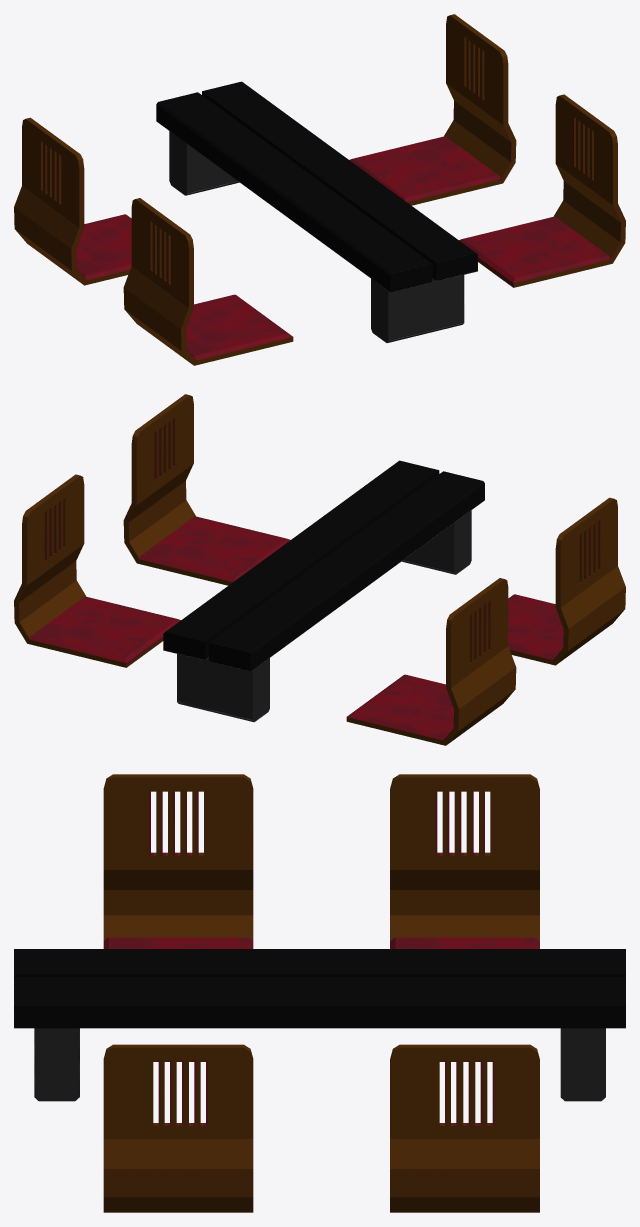
Rendered from NNJ0810002.fbx.
The picture shows the model from 3 angles, top to bottom: view 1: azimuth 30°, elevation 25°; view 2: azimuth 150°, elevation 25°; view 3: azimuth 270°, elevation 25°; orthographic projection. The views are drawn at different scales.
Visible parts, largest first — view 1: smNNJ0810002; view 2: smNNJ0810002; view 3: smNNJ0810002.
Boxes of the visible parts, x1=… form: smNNJ0810002: x1=14, y1=14, x2=625, y2=365; smNNJ0810002: x1=14, y1=394, x2=625, y2=745; smNNJ0810002: x1=14, y1=774, x2=625, y2=1212.
Bounding box in the file's own units: 292 × 80.8 × 266.
1 material, 1 textured.
